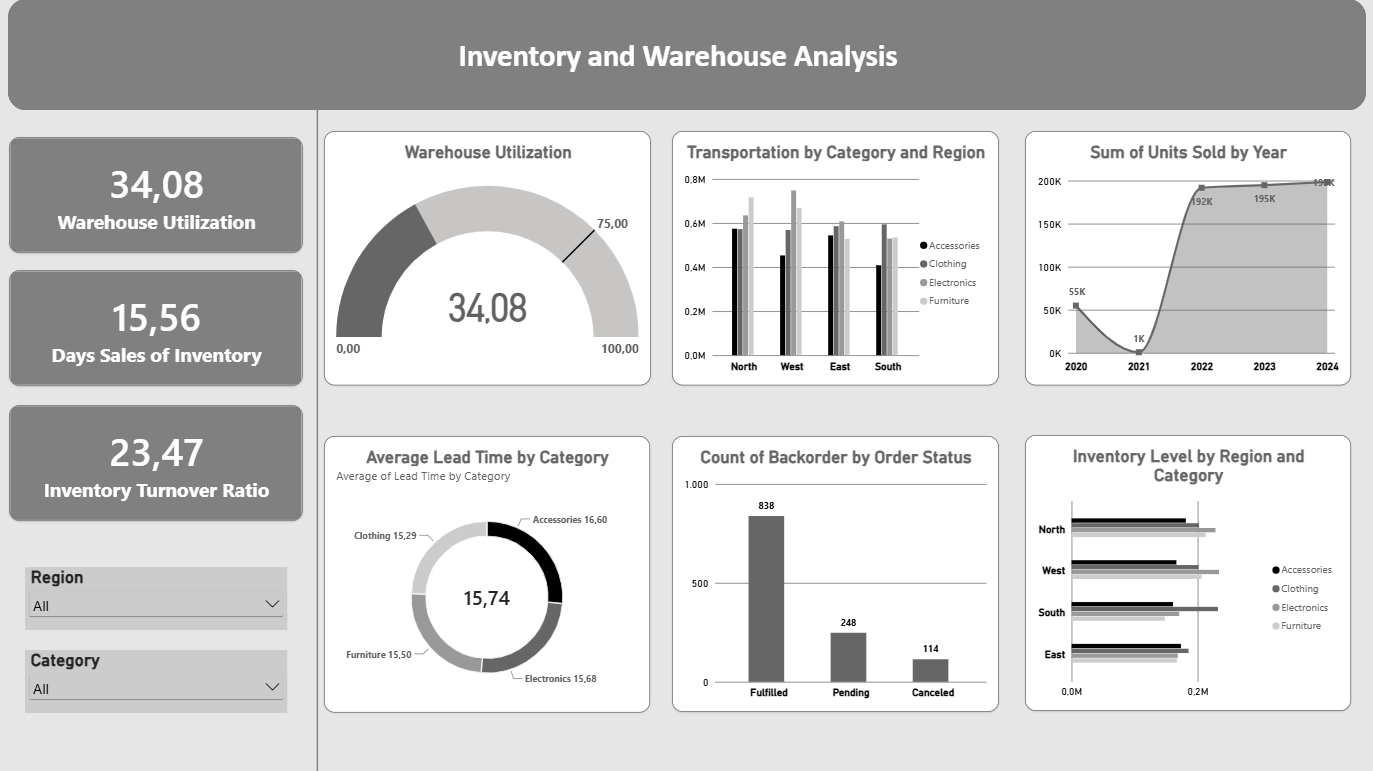

This screenshot's page, from the dashboard's own definition file:
{"tool":"powerbi","page":{"name":"Page 1","canvas":[1920,1080],"ordinal":0},"visuals":[{"type":"shape","box":[12.5,0,1895,155.2],"z":0},{"type":"textbox","box":[0,53.5,1895,64.2],"z":1000},{"type":"shape","box":[435.4,155.2,17.8,924.3],"z":2000},{"type":"slicer","fields":{"Values":["Inventory and Supply Chain Dataset.Region"]},"box":[36.3,792,366.4,87.8],"z":3000},{"type":"cardVisual","fields":{"Data":["Inventory and Supply Chain Dataset.Warehouse Utilization"]},"box":[13.4,192.8,410.3,162.2],"z":4000},{"type":"cardVisual","fields":{"Data":["Inventory and Supply Chain Dataset.Days Sales of Inventory"]},"box":[13.4,377.9,410.3,162.2],"z":5000},{"type":"cardVisual","fields":{"Data":["Inventory and Supply Chain Dataset.Inventory Turnover Ratio"]},"box":[13.4,566.8,410.3,162.2],"z":6000},{"type":"slicer","fields":{"Values":["Inventory and Supply Chain Dataset.Category"]},"box":[36.3,908.5,366.4,87.8],"z":7000},{"type":"gauge","fields":{"Y":["Inventory and Supply Chain Dataset.Warehouse Utilization"]},"box":[453,184.8,456.3,354.9],"z":8000},{"type":"clusteredColumnChart","title":"Transportation by Category and Region","fields":{"Y":["Sum(Inventory and Supply Chain Dataset.Transportation Cost)"],"Category":["Inventory and Supply Chain Dataset.Region"],"Series":["Inventory and Supply Chain Dataset.Category"]},"box":[938.7,184.8,456.3,354.9],"z":9000},{"type":"lineChart","fields":{"Y":["Sum(Inventory and Supply Chain Dataset.Units Sold)"],"Category":["Inventory and Supply Chain Dataset.Date.Variation.Date Hierarchy.Year"]},"box":[1431,184.8,454.7,354.9],"z":10000},{"type":"donutChart","title":"Average Lead Time by Category","fields":{"Y":["Avg(Inventory and Supply Chain Dataset.Lead Time)"],"Category":["Inventory and Supply Chain Dataset.Category"]},"box":[453,610,454.7,386],"z":11000},{"type":"columnChart","fields":{"Y":["CountNonNull(Inventory and Supply Chain Dataset.Backorder)"],"Category":["Inventory and Supply Chain Dataset.Order Status"]},"box":[938.7,610,456,385],"z":12000},{"type":"clusteredBarChart","title":"Inventory Level by Region and Category","fields":{"Y":["Sum(Inventory and Supply Chain Dataset.Inventory Level)"],"Category":["Inventory and Supply Chain Dataset.Region"],"Series":["Inventory and Supply Chain Dataset.Category"]},"box":[1431,608.4,455,385],"z":13000}]}

Visuals, with their boxes in screenshot pixels (x1, y1, x2, y2), scaled from the page's 1920x1080 canvas onto the 1373x771 screenshot:
shape: bbox(9, 0, 1364, 111)
textbox: bbox(0, 38, 1355, 84)
shape: bbox(311, 111, 324, 770)
slicer - Inventory and Supply Chain Dataset.Region: bbox(26, 565, 288, 628)
cardVisual - Inventory and Supply Chain Dataset.Warehouse Utilization: bbox(10, 138, 303, 253)
cardVisual - Inventory and Supply Chain Dataset.Days Sales of Inventory: bbox(10, 270, 303, 386)
cardVisual - Inventory and Supply Chain Dataset.Inventory Turnover Ratio: bbox(10, 405, 303, 520)
slicer - Inventory and Supply Chain Dataset.Category: bbox(26, 649, 288, 711)
gauge - Inventory and Supply Chain Dataset.Warehouse Utilization: bbox(324, 132, 650, 385)
"Transportation by Category and Region" clusteredColumnChart: bbox(671, 132, 998, 385)
lineChart - Sum(Inventory and Supply Chain Dataset.Units Sold) x Inventory and Supply Chain Dataset.Date.Variation.Date Hierarchy.Year: bbox(1023, 132, 1348, 385)
"Average Lead Time by Category" donutChart: bbox(324, 435, 649, 711)
columnChart - CountNonNull(Inventory and Supply Chain Dataset.Backorder) x Inventory and Supply Chain Dataset.Order Status: bbox(671, 435, 997, 710)
"Inventory Level by Region and Category" clusteredBarChart: bbox(1023, 434, 1349, 709)
